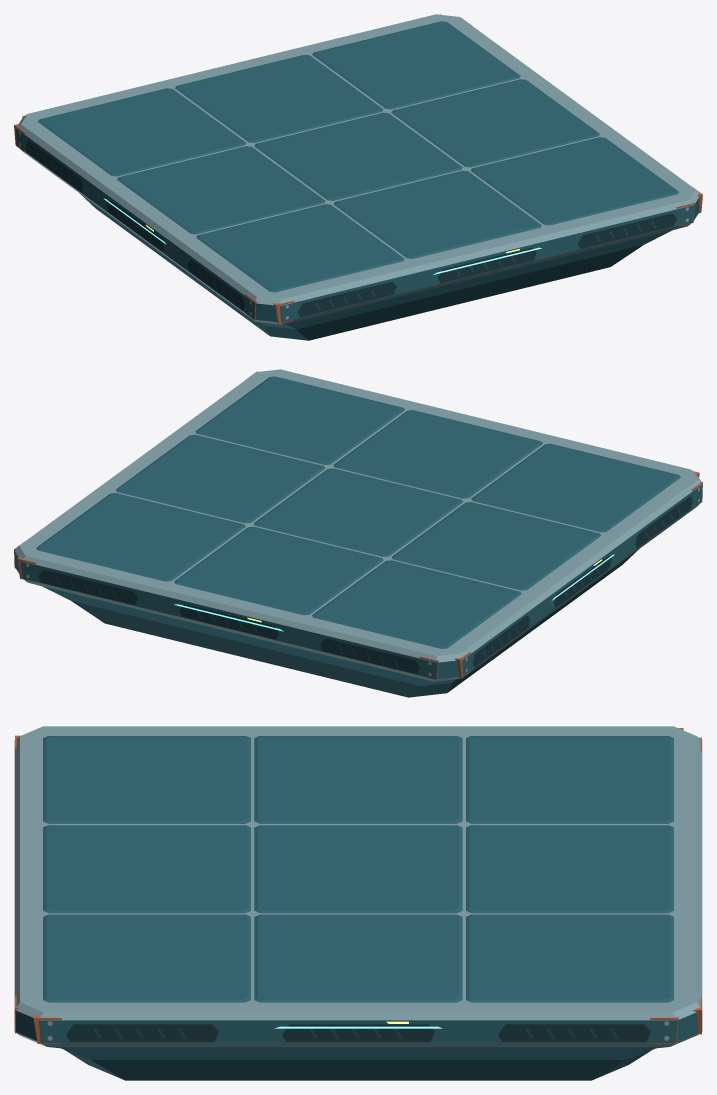
File: board-chassis.glb
3 renders of one model, top to bottom at view 1: azimuth 30°, elevation 25°; view 2: azimuth 150°, elevation 25°; view 3: azimuth 270°, elevation 25°, orthographic. The views are drawn at different scales.
Visible parts, largest first — view 1: board-chassis; view 2: board-chassis; view 3: board-chassis.
Boxes of the visible parts, bbox=[...] form: board-chassis: bbox=[14, 14, 702, 340]; board-chassis: bbox=[14, 369, 702, 697]; board-chassis: bbox=[14, 726, 702, 1080].
Size of the model in its own units: 21.05 by 3.75 by 21.05.
